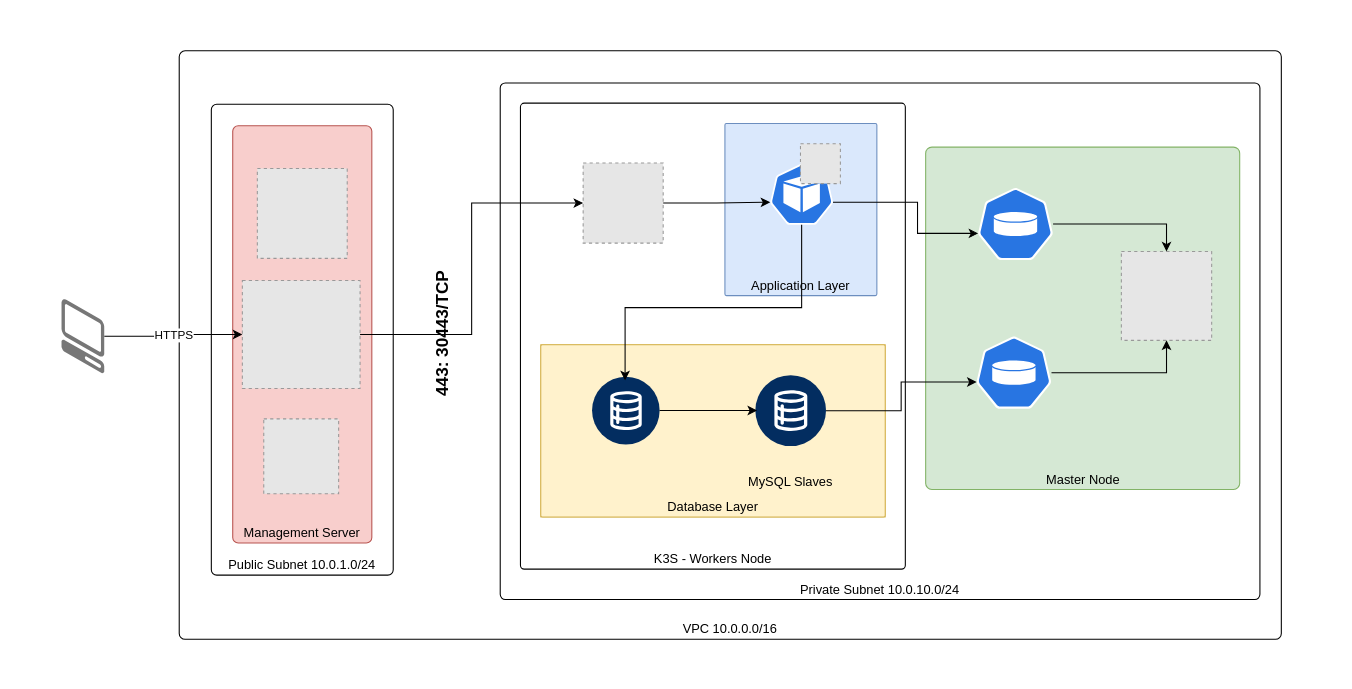
The diagram is 1352 pixels wide and 689 high, and some of its shapes have lost their labels. Grey dashed boxes stand in for pictures. Each missing label, with the centre of its shape:
Client: pixel 82 336
MySQL Master: pixel 625 410
nfs/mysql: pixel 1013 372
nfs/wordpress: pixel 1015 223
Wordpress Deployment: pixel 801 194
